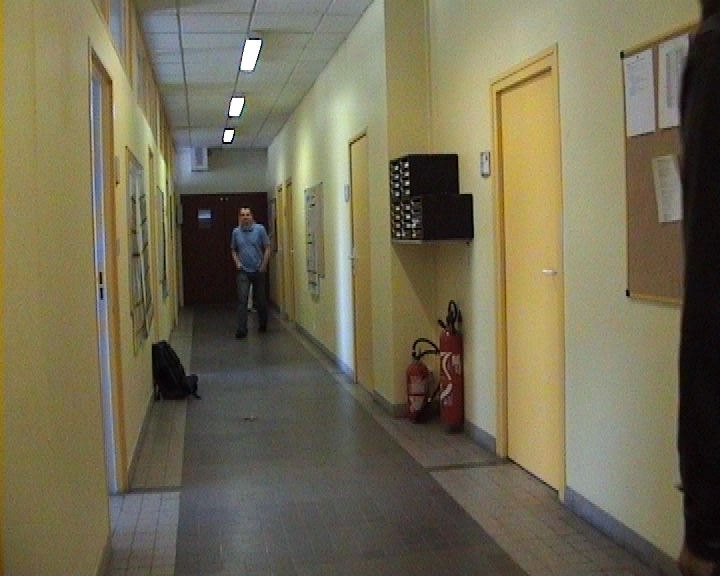leave bag unattended: (139, 330, 213, 417)
